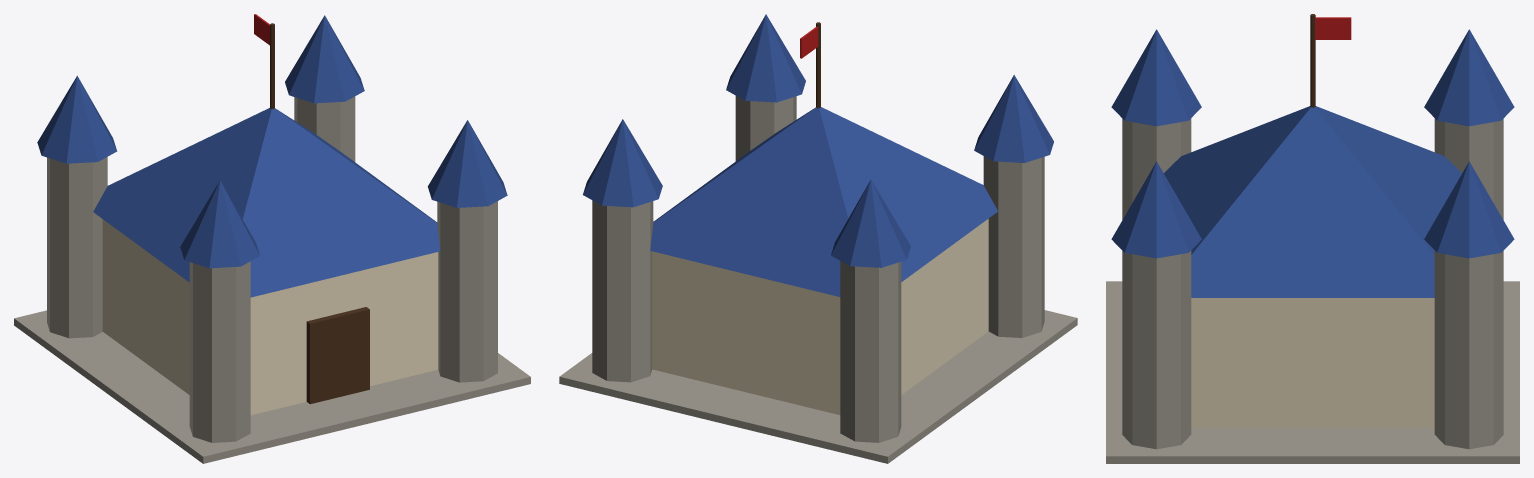
The model's file is city_hall.glb.
The picture shows the model from 3 angles, left to right: view 1: azimuth 30°, elevation 25°; view 2: azimuth 150°, elevation 25°; view 3: azimuth 270°, elevation 25°; orthographic projection. The views are drawn at different scales.
Visible parts, largest first — view 1: city_hall; view 2: city_hall; view 3: city_hall.
Boxes of the visible parts, x1,y1,x2,y2 form: city_hall: (14,14,530,463); city_hall: (559,14,1077,463); city_hall: (1106,14,1519,463).
Size of the model in its own units: 3.84 by 3.7 by 3.84.
